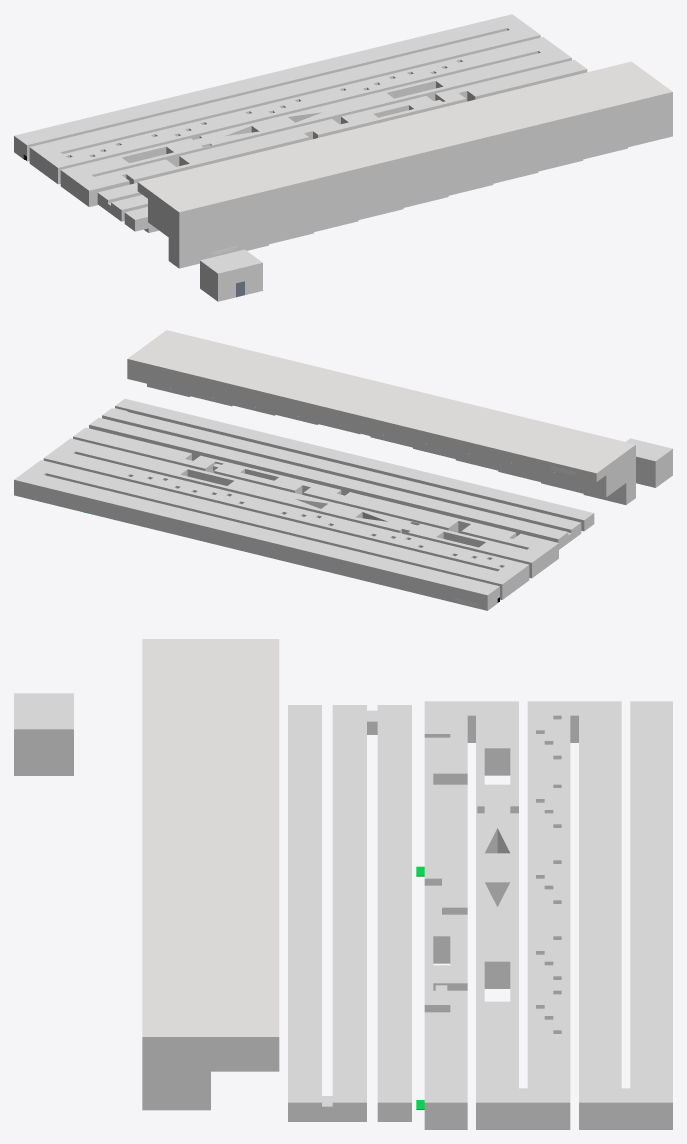
Rendered from bhop_tk_speedrun.glb.
3 views of the same model, one above another, from view 1: azimuth 30°, elevation 25°; view 2: azimuth 150°, elevation 25°; view 3: azimuth 270°, elevation 25° (orthographic). The views are drawn at different scales.
Visible parts, largest first — view 1: bhop_tk_speedrun_static; view 2: bhop_tk_speedrun_static; view 3: bhop_tk_speedrun_static.
Part boxes in pixels (x1,y1,x2,y2): bhop_tk_speedrun_static: (14, 14, 672, 301); bhop_tk_speedrun_static: (14, 330, 672, 610); bhop_tk_speedrun_static: (14, 639, 672, 1129).
Bounding box in the file's own units: 180 × 21.11 × 125.
Materials: 19 (19 with a texture image).
